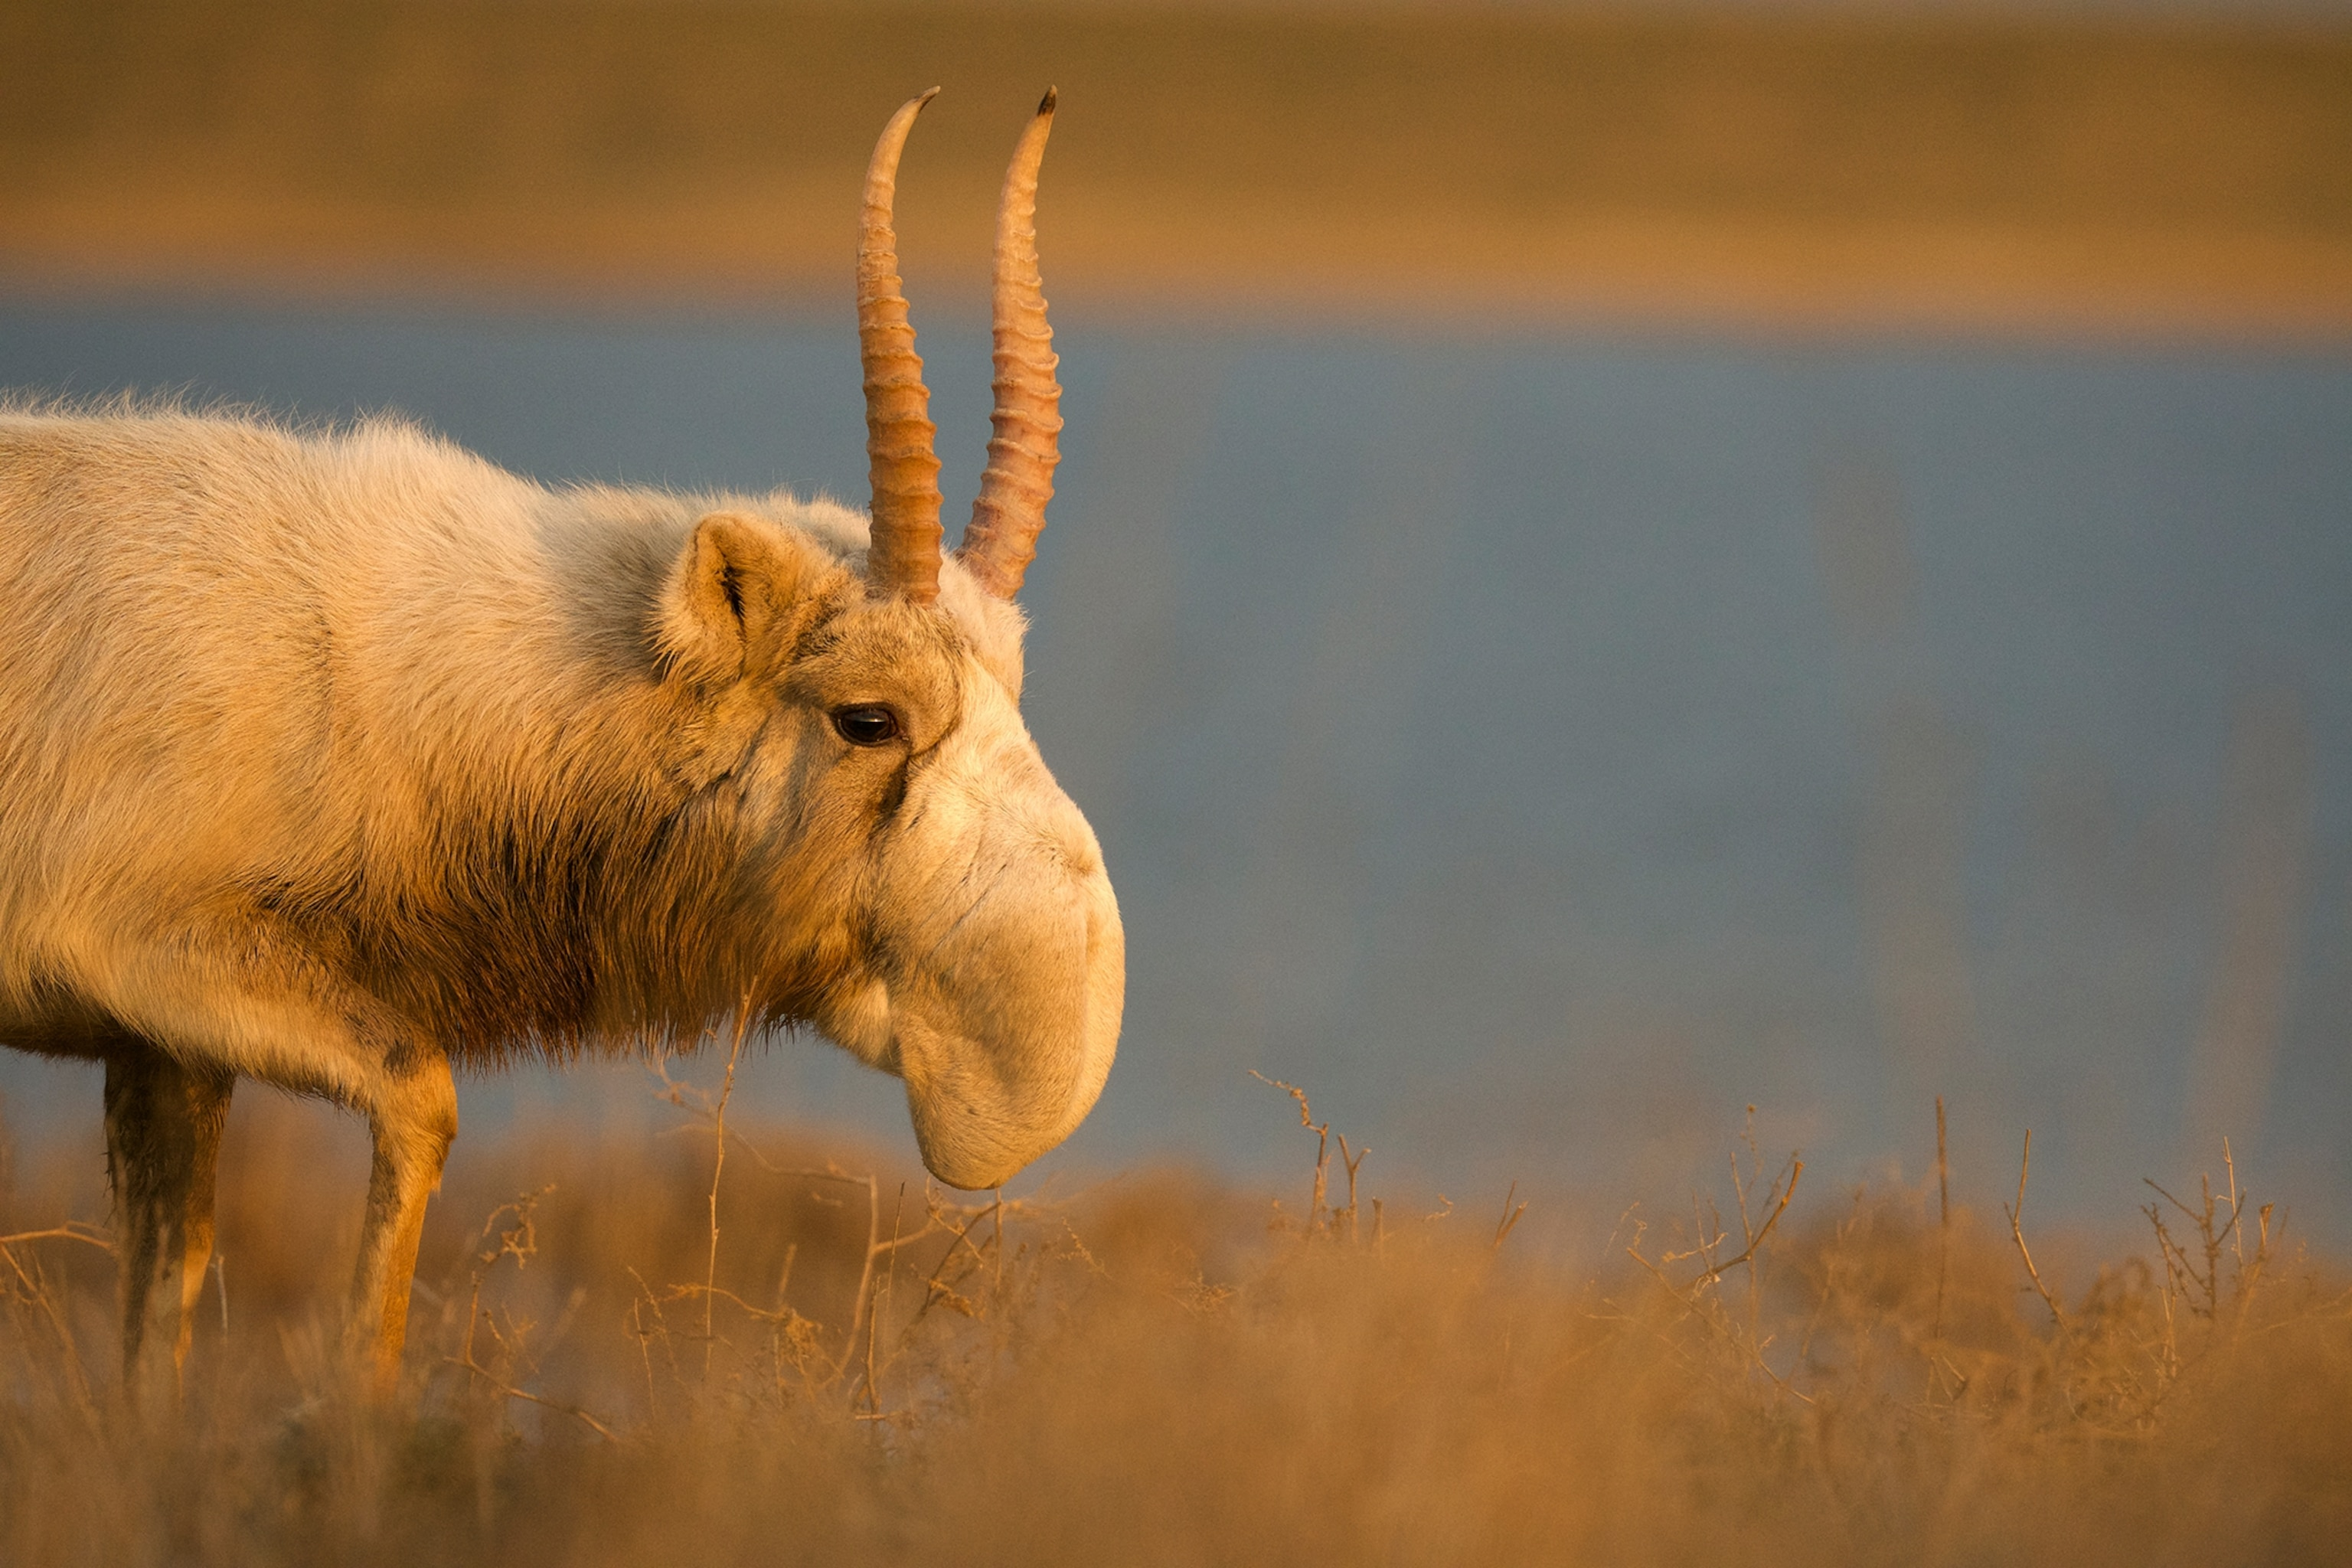saiga: (21, 87, 1134, 1414)
